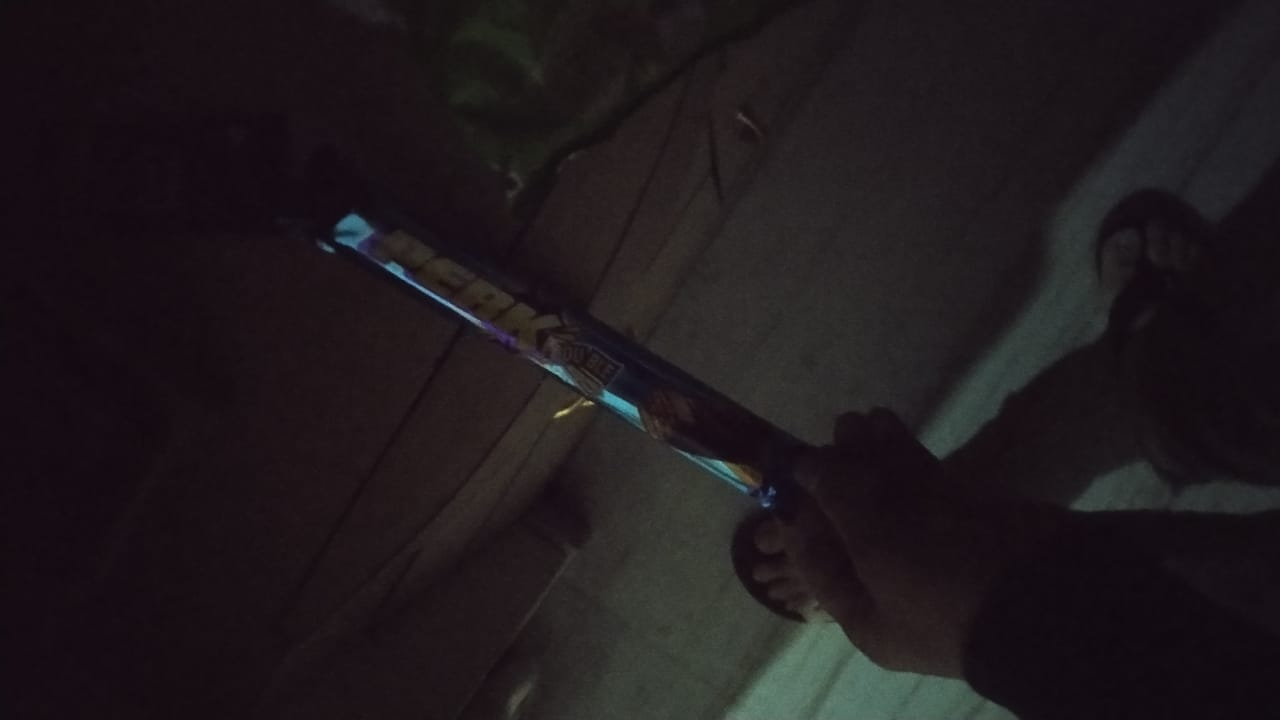perk: (306, 189, 834, 534)
